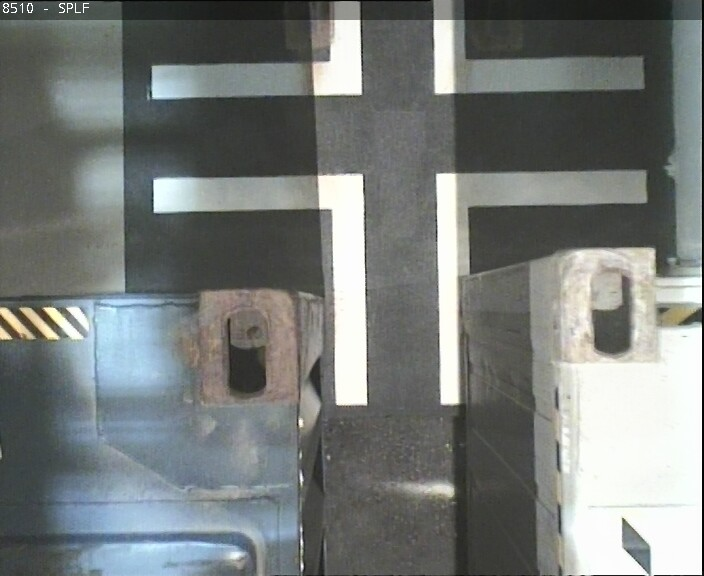groundmarker_1: (150, 173, 640, 405), (150, 1, 642, 93)
